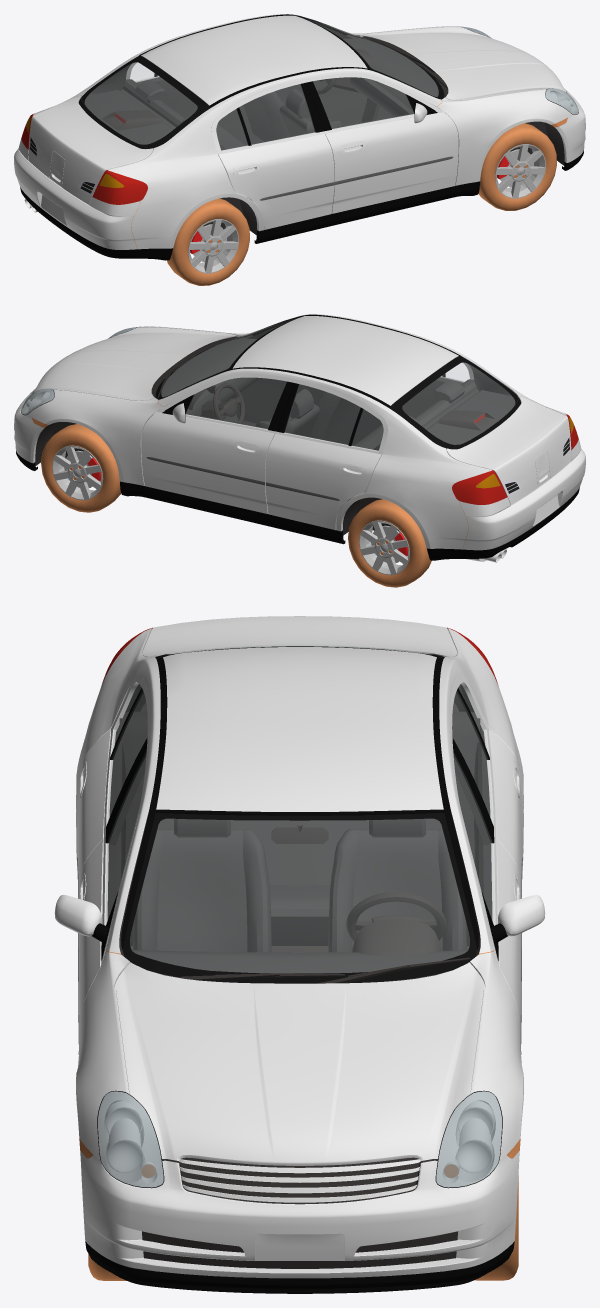
The model's file is SEDAN25.obj.
3 views of the same model, one above another, from view 1: azimuth 30°, elevation 25°; view 2: azimuth 150°, elevation 25°; view 3: azimuth 270°, elevation 25° (orthographic). The views are drawn at different scales.
Visible parts, largest first — view 1: 25; view 2: 25; view 3: 25.
Part boxes in pixels (left/top/right/bottom): 25: left=14, top=14, right=585, bottom=285; 25: left=14, top=314, right=585, bottom=587; 25: left=54, top=616, right=545, bottom=1293.
Size of the model in its own units: 4.38 by 1.47 by 1.83.
